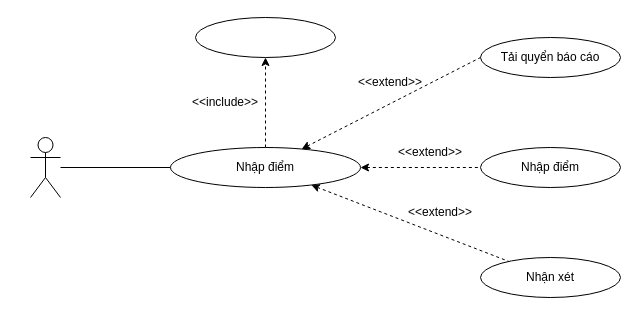
The diagram is 638 pixels wide and 315 high, and some of its shapes have lost their labels. Each missing label, with the centre of its shape:
"Giảng viên" belongs at (45,167).
"Đăng nhập" belongs at (265,37).
